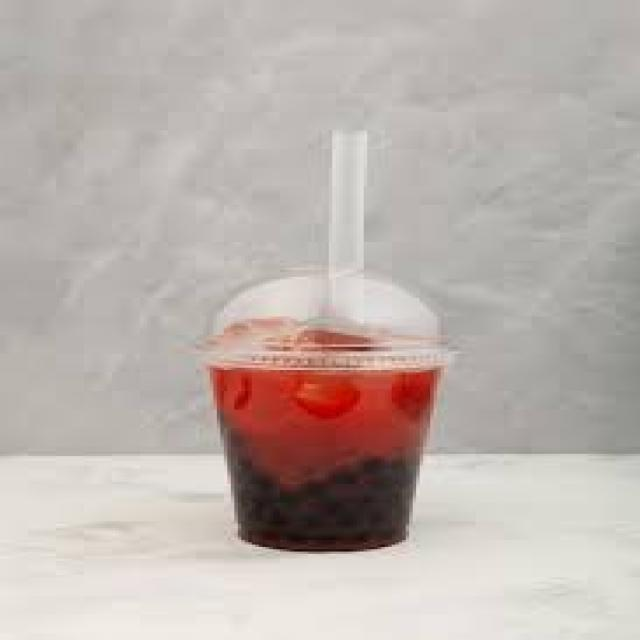bottle: (209, 343, 441, 549)
